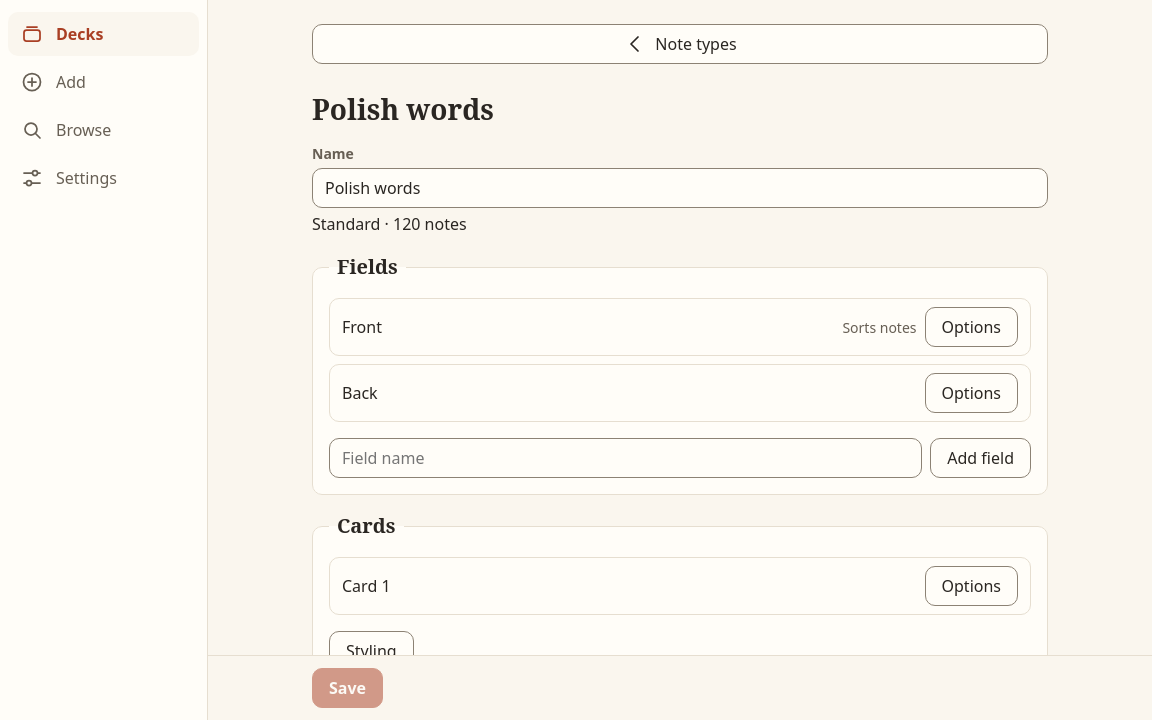
Test: the template box › an Insert button puts the field at the cursor
Expected: the field labelled "Name" is shown, [312,168,1048,208]
Click the button with aria-label "Options for Card 1": point(971, 586) [924,566,1018,606]
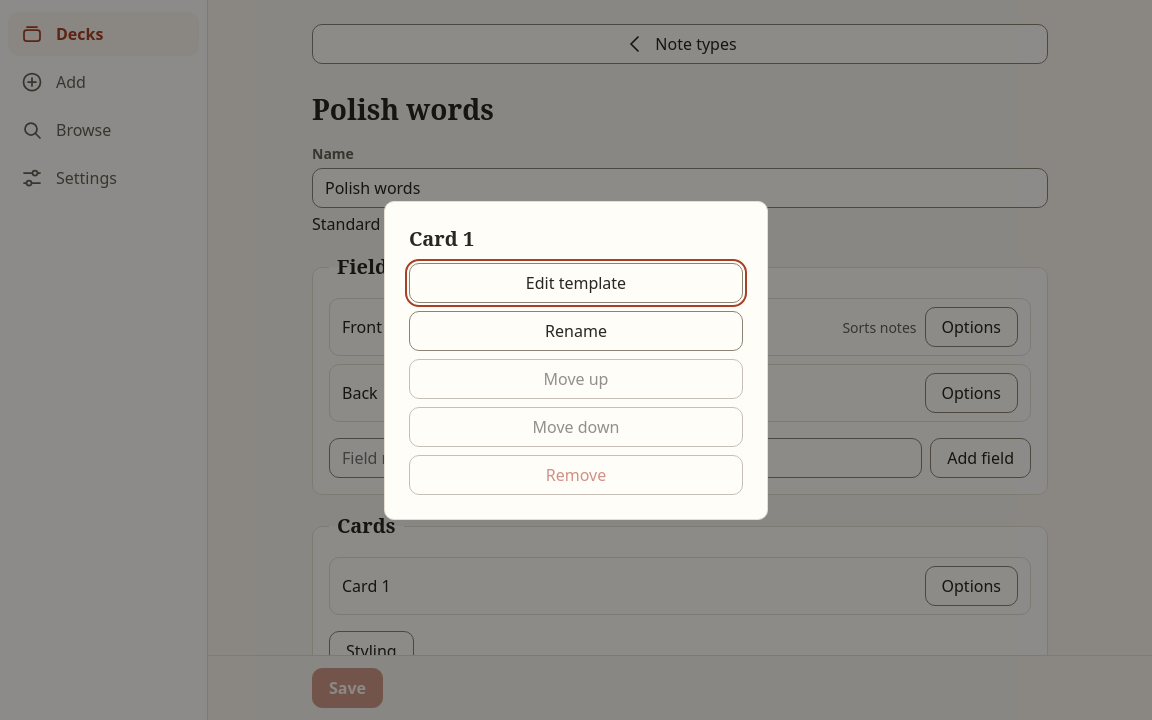
Click the button "Edit template": point(576, 282) [409,262,743,302]
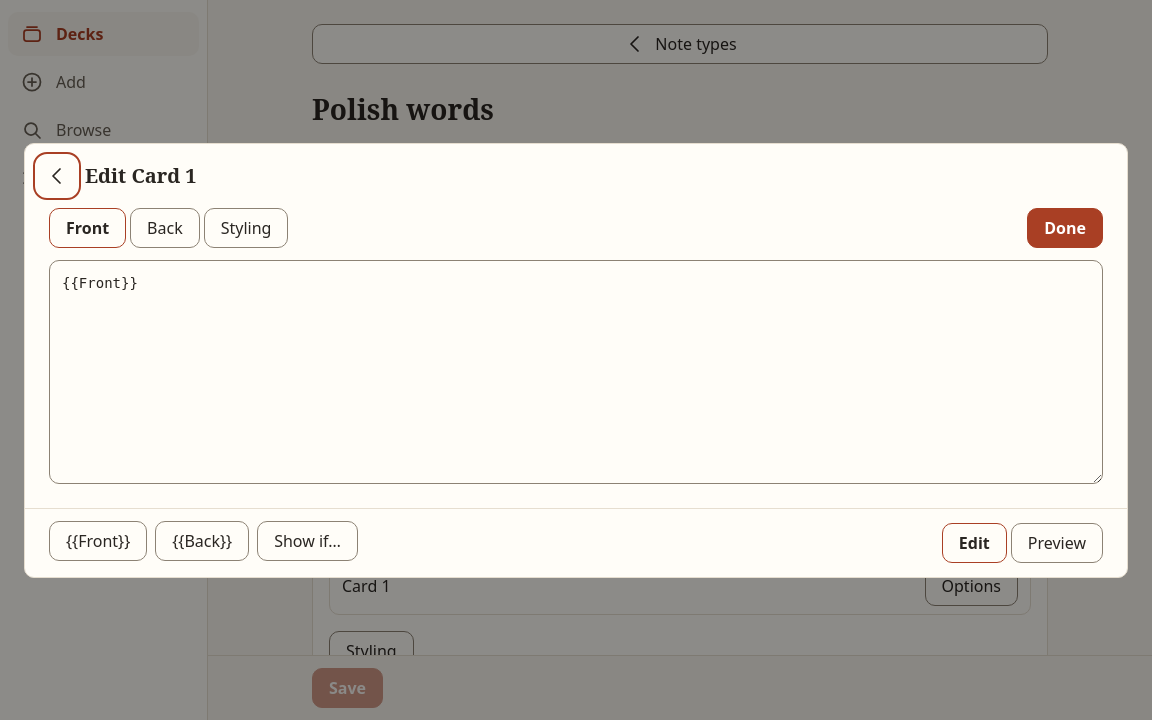
Click the button with aria-label "Insert Back": point(202, 540) [155,520,249,560]
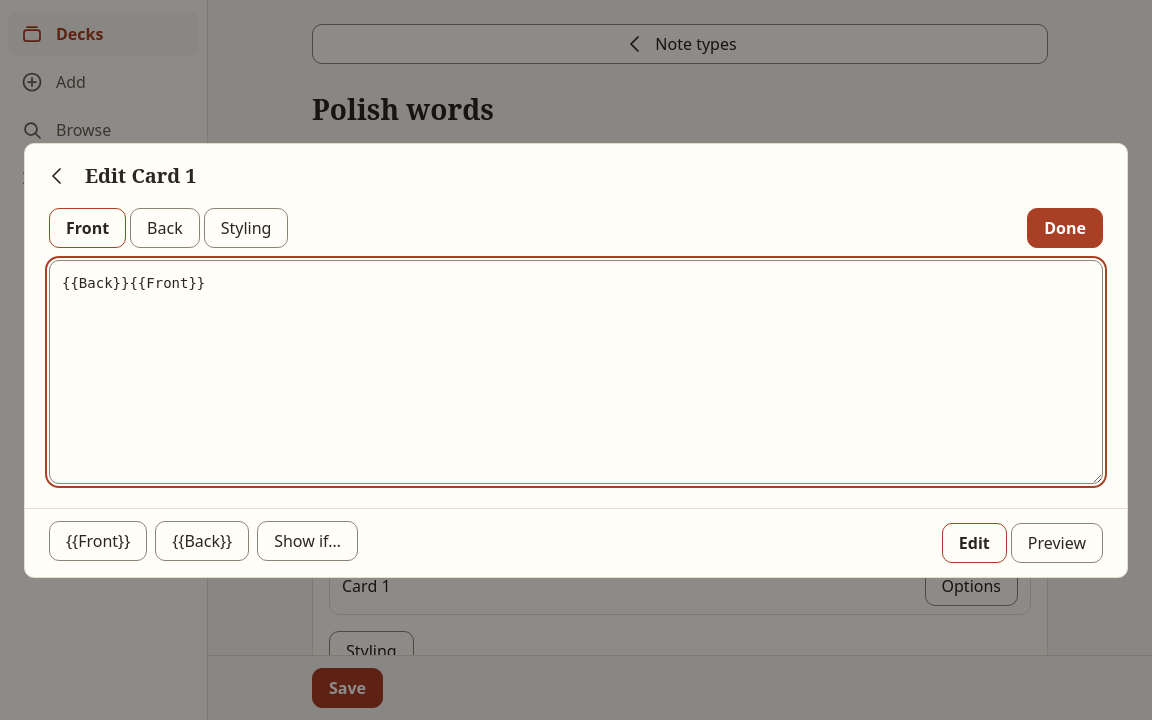
Now the text box named "Front template" holds "{{Back}}{{Front}}", box [49,260,1103,484]
